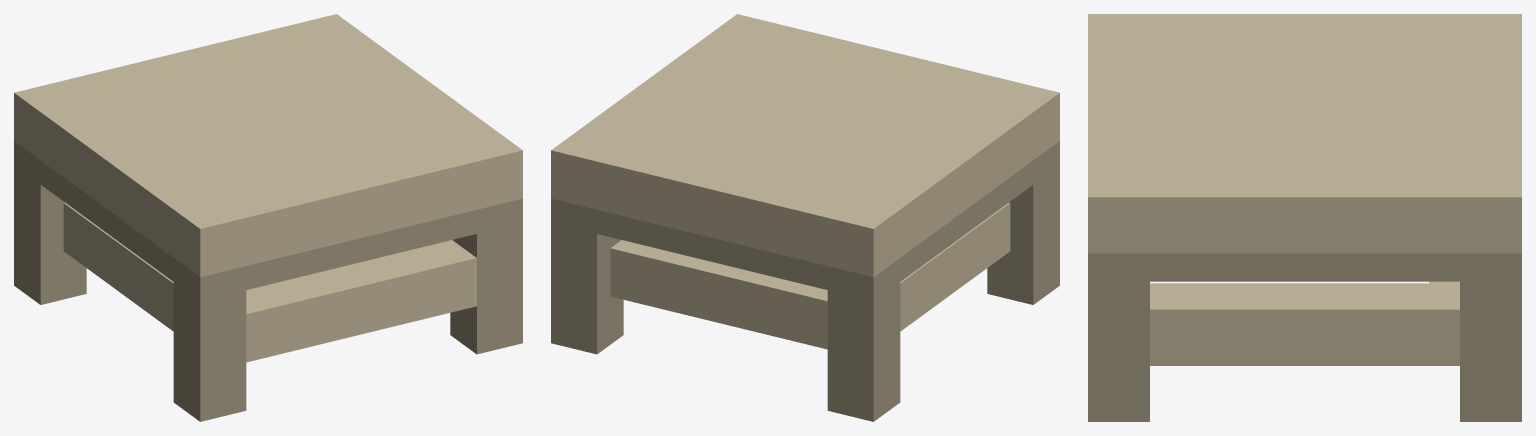
Rendered from taburete_pino_01.glb.
The picture shows the model from 3 angles, left to right: view 1: azimuth 30°, elevation 25°; view 2: azimuth 150°, elevation 25°; view 3: azimuth 270°, elevation 25°; orthographic projection. The views are drawn at different scales.
Visible parts, largest first — view 1: taburete_pino; view 2: taburete_pino; view 3: taburete_pino.
Part boxes in pixels (box(x1,y1,x2,y2)): taburete_pino: box(14, 14, 522, 421); taburete_pino: box(551, 14, 1059, 421); taburete_pino: box(1088, 14, 1521, 421).
Bounding box in the file's own units: 1 × 0.5714 × 1.
